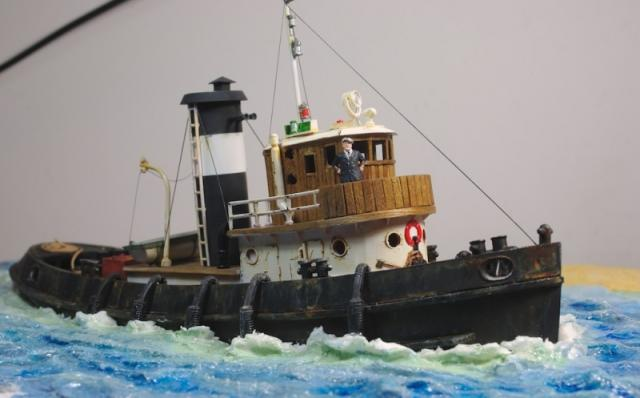otherboat: (12, 76, 576, 351)
